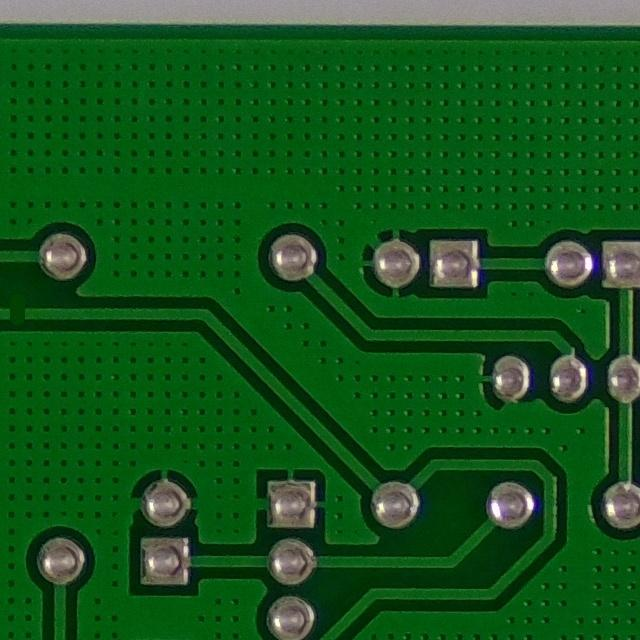open_circuit: (0, 296, 32, 331)
